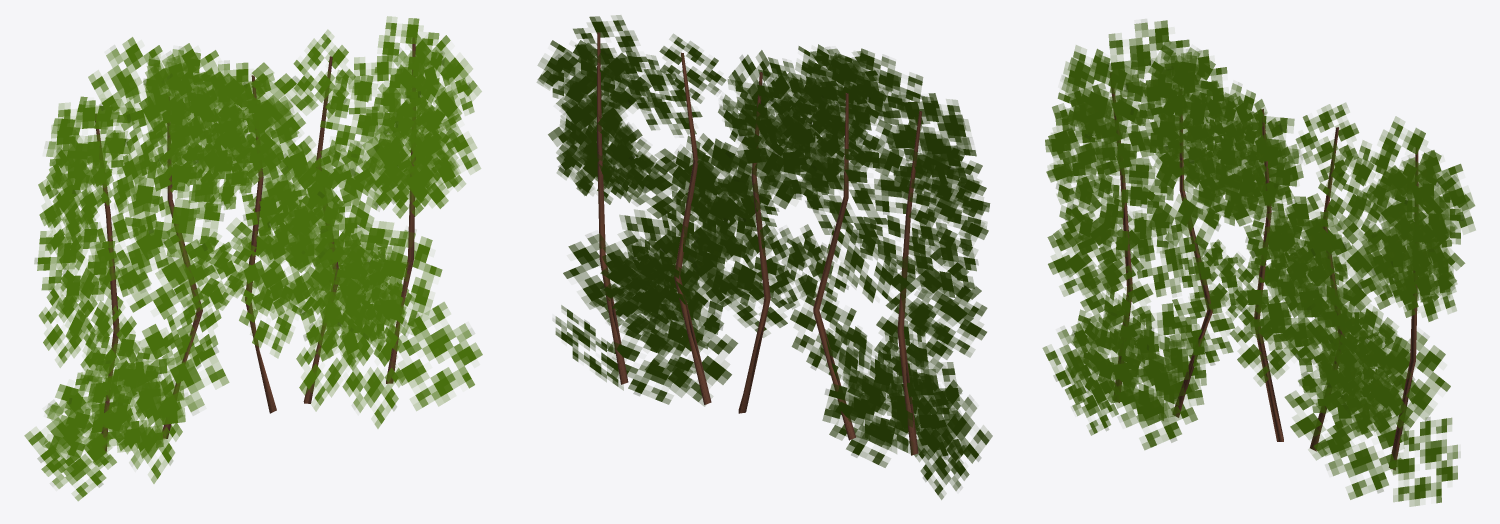
The model's file is ivy_wall.glb.
3 renders of one model, left to right at view 1: azimuth 30°, elevation 25°; view 2: azimuth 150°, elevation 25°; view 3: azimuth 330°, elevation 25°, orthographic. The views are drawn at different scales.
Visible parts, largest first — view 1: ivy_wall_Leaf_Ivy, ivy_wall_Bark_Dark; view 2: ivy_wall_Leaf_Ivy, ivy_wall_Bark_Dark; view 3: ivy_wall_Leaf_Ivy, ivy_wall_Bark_Dark.
Boxes of the visible parts, left/top/right/bottom form: ivy_wall_Leaf_Ivy: left=24, top=16, right=482, bottom=500; ivy_wall_Bark_Dark: left=95, top=38, right=415, bottom=451; ivy_wall_Leaf_Ivy: left=537, top=15, right=992, bottom=499; ivy_wall_Bark_Dark: left=597, top=32, right=922, bottom=455; ivy_wall_Leaf_Ivy: left=1042, top=20, right=1475, bottom=506; ivy_wall_Bark_Dark: left=1110, top=73, right=1418, bottom=470.
Size of the model in its own units: 3.33 by 3.08 by 0.4138.
Materials: 2 (2 with a texture image).
